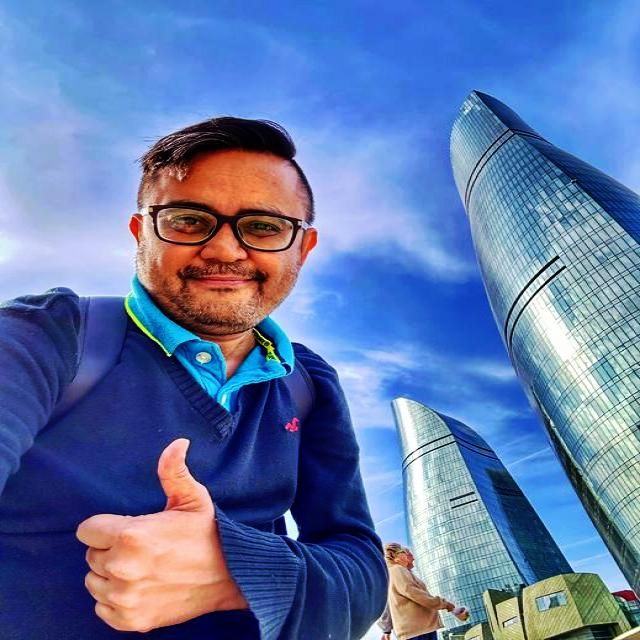thumbs_up: (72, 435, 233, 637)
